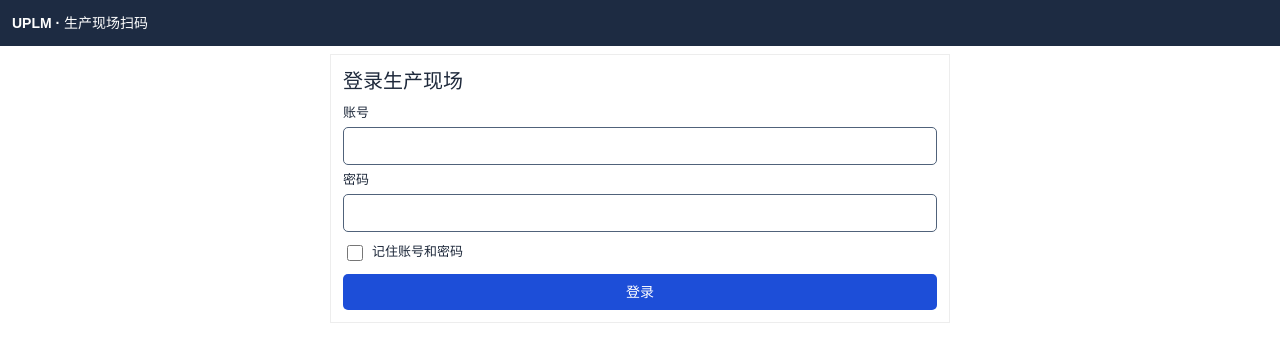
it: 生产现场记住账号和密码 › 默认不勾选，登录成功后不保存密码
Expected: the checkbox labelled "记住账号和密码" is not checked, [347,245,363,261]
Type "admin" into the field labelled "账号".
click(640, 146); type("admin")  # box [343,127,937,165]
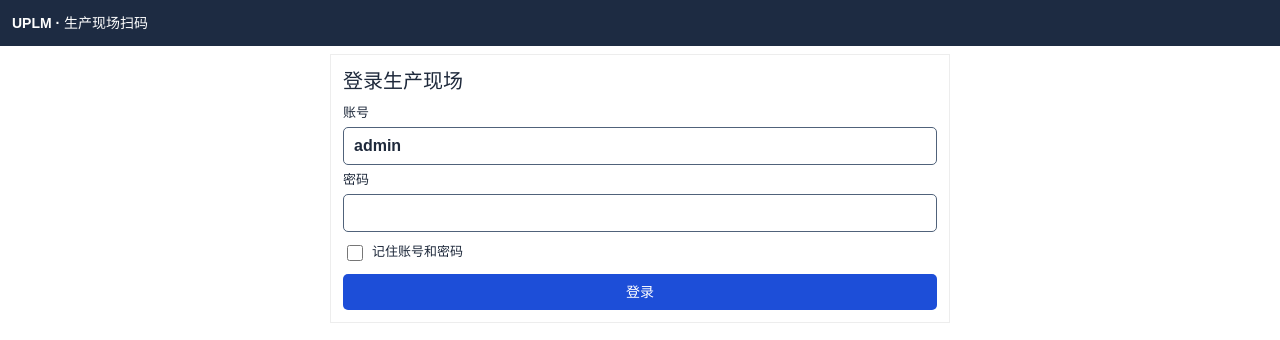
Type "test-only" into the password field labelled "密码".
click(640, 213); type("test-only")  # box [343,194,937,232]
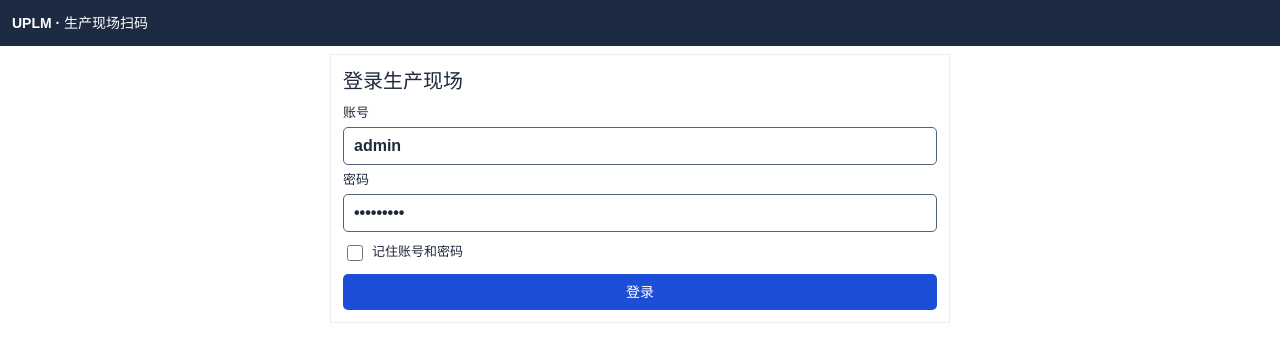
Submit the form, box [330,54,950,323]
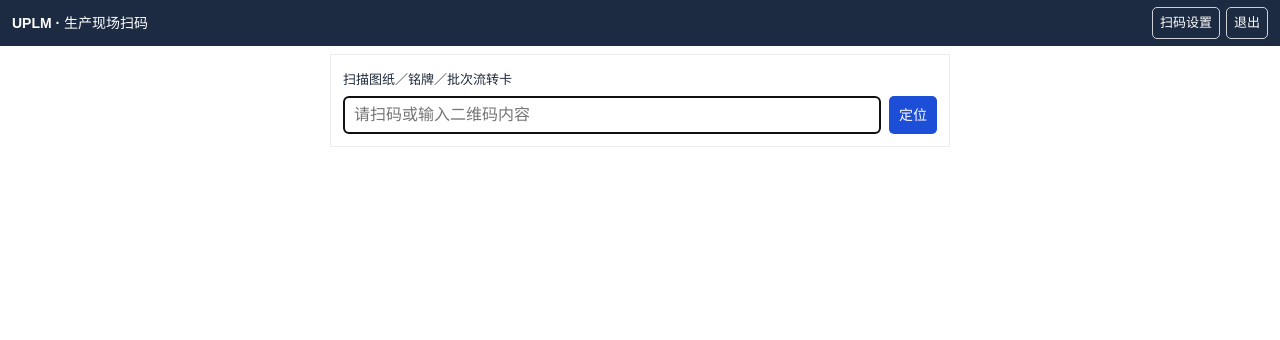
Expected: the field labelled "扫描图纸／铭牌／批次流转卡" is shown, [343,96,881,134]
